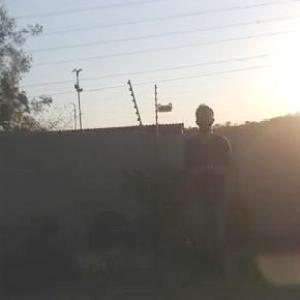follow: (177, 100, 240, 280)
